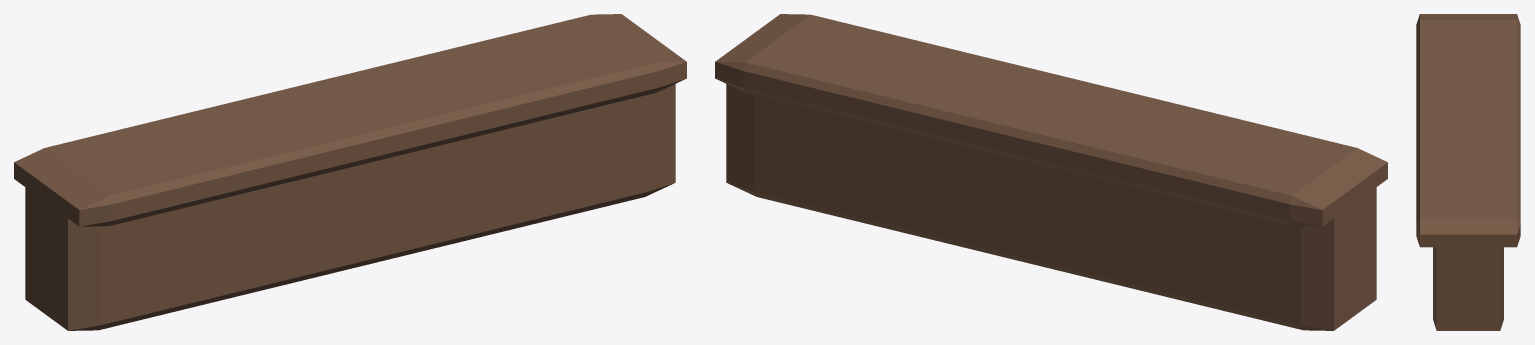
Rendered from tabernaMostrador.fbx.
3 renders of one model, left to right at view 1: azimuth 30°, elevation 25°; view 2: azimuth 150°, elevation 25°; view 3: azimuth 270°, elevation 25°, orthographic. The views are drawn at different scales.
Parts seen in each view (by area): view 1: Mostrador; view 2: Mostrador; view 3: Mostrador.
Boxes of the visible parts, <box> form: Mostrador: <box>14,14,686,330</box>; Mostrador: <box>715,14,1387,330</box>; Mostrador: <box>1416,14,1520,330</box>.
Bounding box in the file's own units: 2 × 0.4492 × 0.3996.
